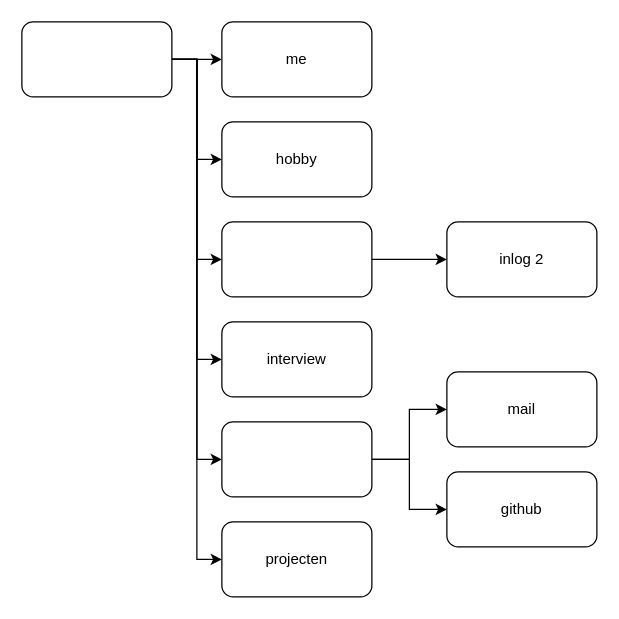
Some shapes in this 619 by 619 pixel diagram are drawn without their labels. Here are the shapes that lost their labels. From the top down, the centre of each, then its label:
At (96,59): "index".
At (296,259): "inlog".
At (296,459): "social".
